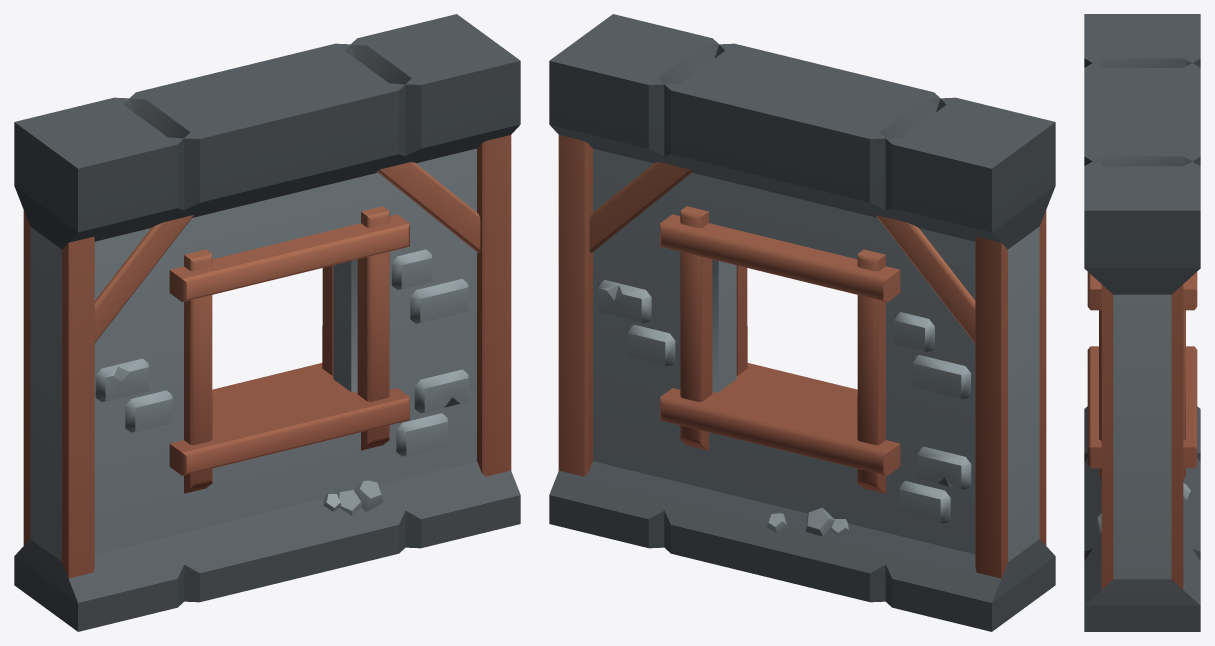
File: wall_window_open_scaffold.gltf
3 views of the same model, side by side, from view 1: azimuth 30°, elevation 25°; view 2: azimuth 150°, elevation 25°; view 3: azimuth 270°, elevation 25° (orthographic). The views are drawn at different scales.
Parts seen in each view (by area): view 1: wall_window_open_scaffold; view 2: wall_window_open_scaffold; view 3: wall_window_open_scaffold.
Part boxes in pixels (x1,y1,x2,y2): wall_window_open_scaffold: (14, 14, 520, 631); wall_window_open_scaffold: (549, 14, 1055, 631); wall_window_open_scaffold: (1084, 14, 1200, 631).
Size of the model in its own units: 4 by 4 by 1.
1 material, 1 textured.
